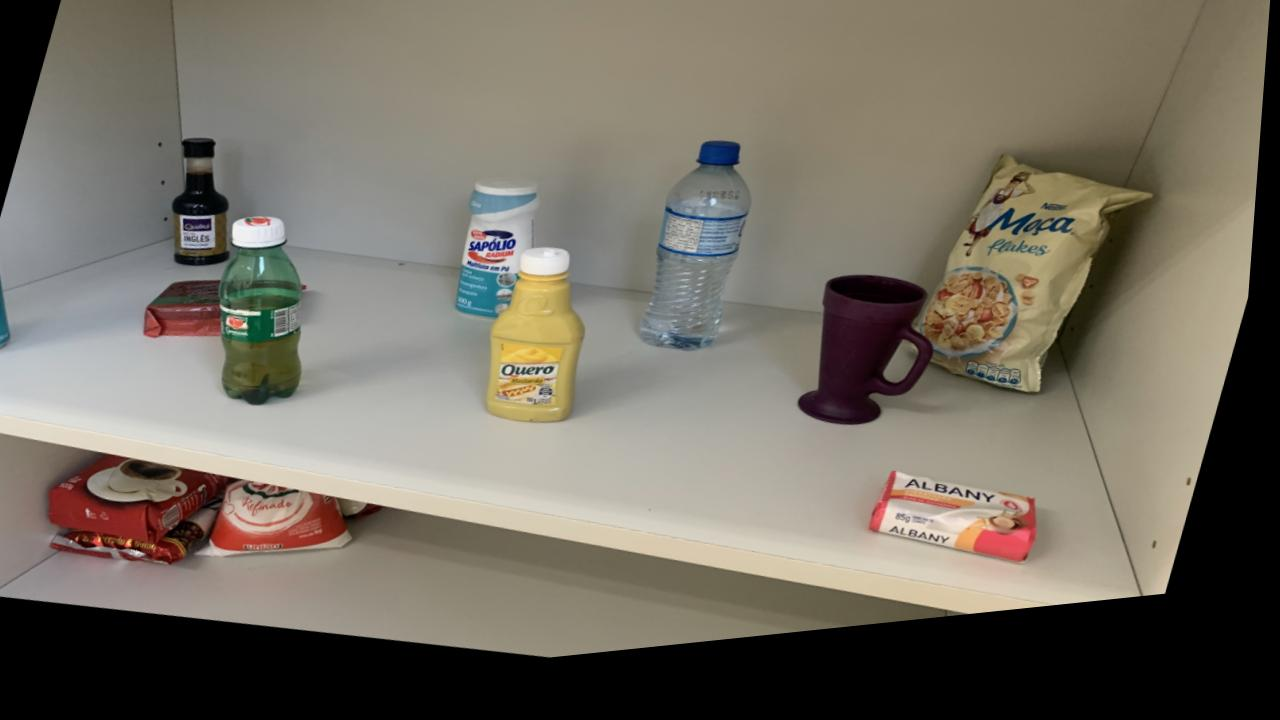Cleaner-Cleanup_Items: (460, 189, 544, 330)
English_Sauce-Pantry_Items: (174, 142, 234, 271)
Flakes-Snacks: (924, 178, 1155, 416)
Guarana-Drinks: (222, 222, 307, 412)
Guava-Snacks: (148, 285, 226, 342)
Mustard-Pantry_Items: (492, 260, 591, 435)
Soap-Cleanup_Items: (878, 492, 1046, 586)
Tea-Drinks: (0, 261, 15, 350)
Water_Bottle-Drinks: (645, 157, 756, 366)
